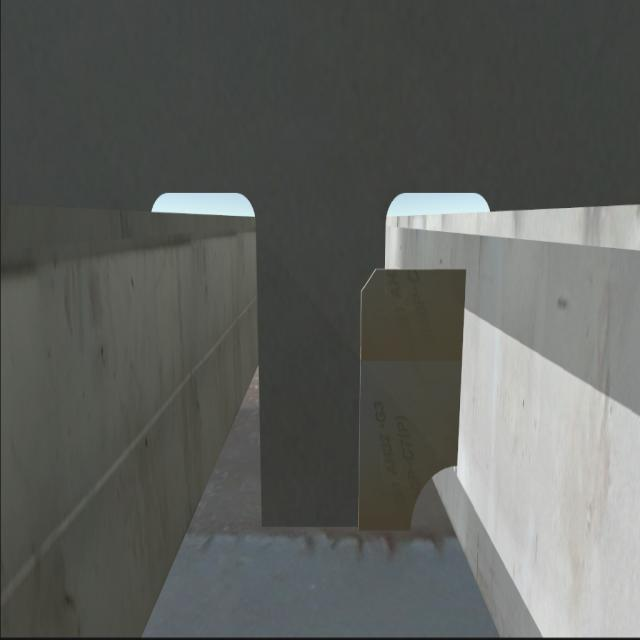fillet_hole: (412, 465, 464, 539)
fillet_yong_jeop_jang: (253, 514, 419, 540)
longi_yong_jeop_jang: (456, 261, 468, 471)
plate_CP03: (356, 260, 462, 529)
